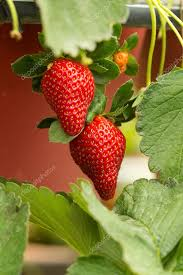ripe: (66, 110, 129, 200), (39, 59, 101, 136)
